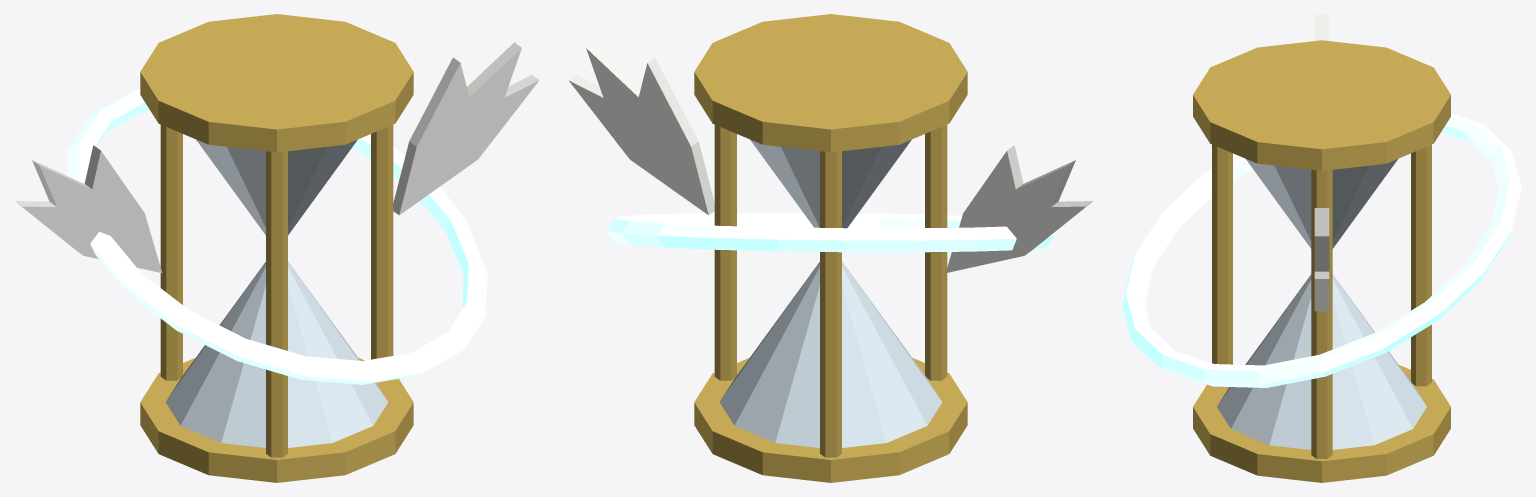
Rendered from item_cooldown.glb.
The picture shows the model from 3 angles, left to right: view 1: azimuth 30°, elevation 25°; view 2: azimuth 150°, elevation 25°; view 3: azimuth 270°, elevation 25°; orthographic projection. The views are drawn at different scales.
Parts seen in each view (by area): view 1: item_cooldown; view 2: item_cooldown; view 3: item_cooldown.
Part boxes in pixels (box(x1,y1,x2,y2)): item_cooldown: box(15, 14, 539, 482); item_cooldown: box(568, 14, 1092, 482); item_cooldown: box(1122, 14, 1521, 482).
Bounding box in the file's own units: 1.18 × 0.77 × 0.836.
